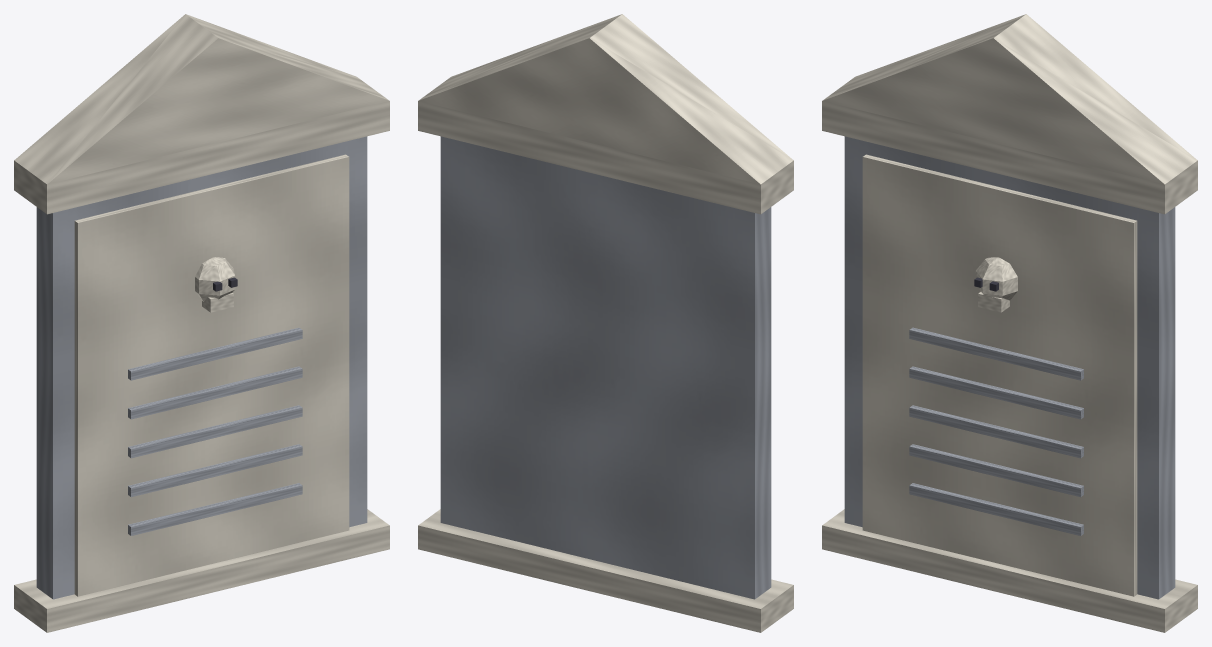
The model's file is vampire-crypt-and-gothic-cathedral-memorial-plaque-b3f617b7__23012.glb.
The picture shows the model from 3 angles, left to right: view 1: azimuth 30°, elevation 25°; view 2: azimuth 150°, elevation 25°; view 3: azimuth 330°, elevation 25°; orthographic projection.
Visible parts, largest first — view 1: memorial-plaque; view 2: memorial-plaque; view 3: memorial-plaque.
Boxes of the visible parts, x1,y1,x2,y2 form: memorial-plaque: (14, 14, 389, 632); memorial-plaque: (418, 14, 793, 632); memorial-plaque: (822, 14, 1197, 632).
Bounding box in the file's own units: 1.2 × 1.85 × 0.25.
3 materials, 2 textured.
